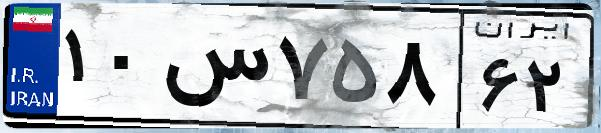0: (110, 28, 158, 98)
1: (57, 26, 110, 100)
2: (525, 38, 570, 115)
5: (330, 28, 385, 110)
6: (475, 38, 525, 113)
7: (270, 28, 330, 110)
8: (385, 28, 445, 110)
س: (158, 20, 270, 120)
